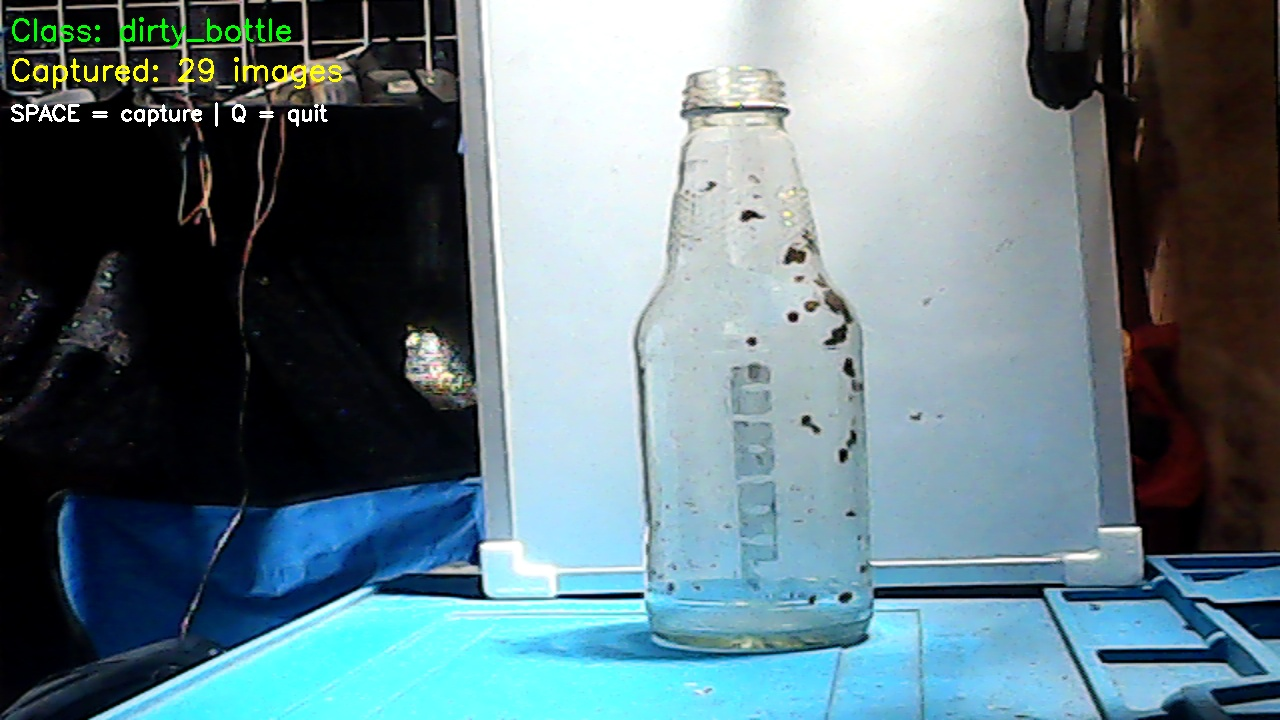dirty_bottle: (592, 59, 876, 660)
